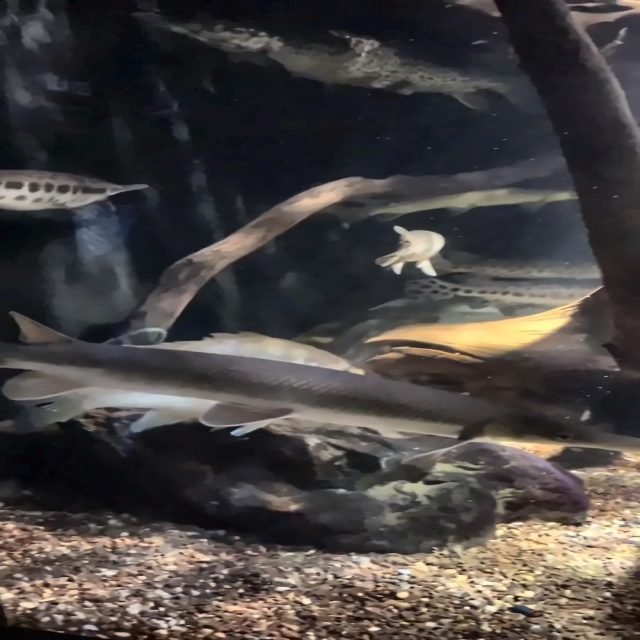fish: (0, 308, 639, 456), (0, 170, 151, 213), (374, 226, 447, 277)
